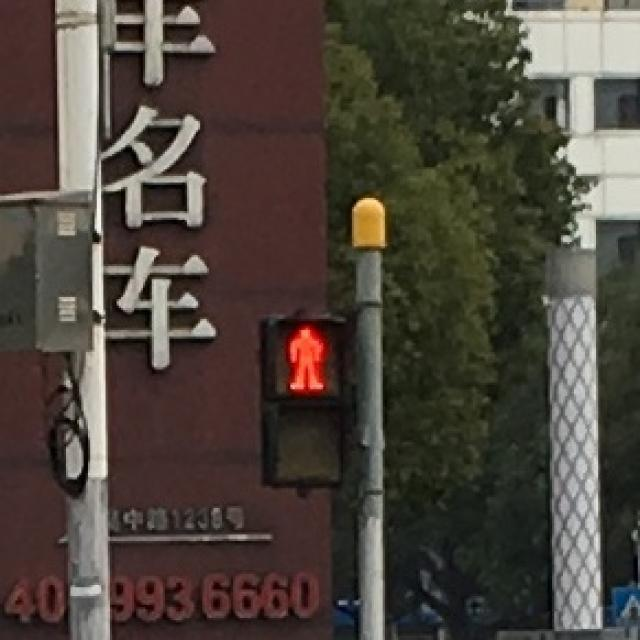red-crossing: (271, 318, 335, 395)
